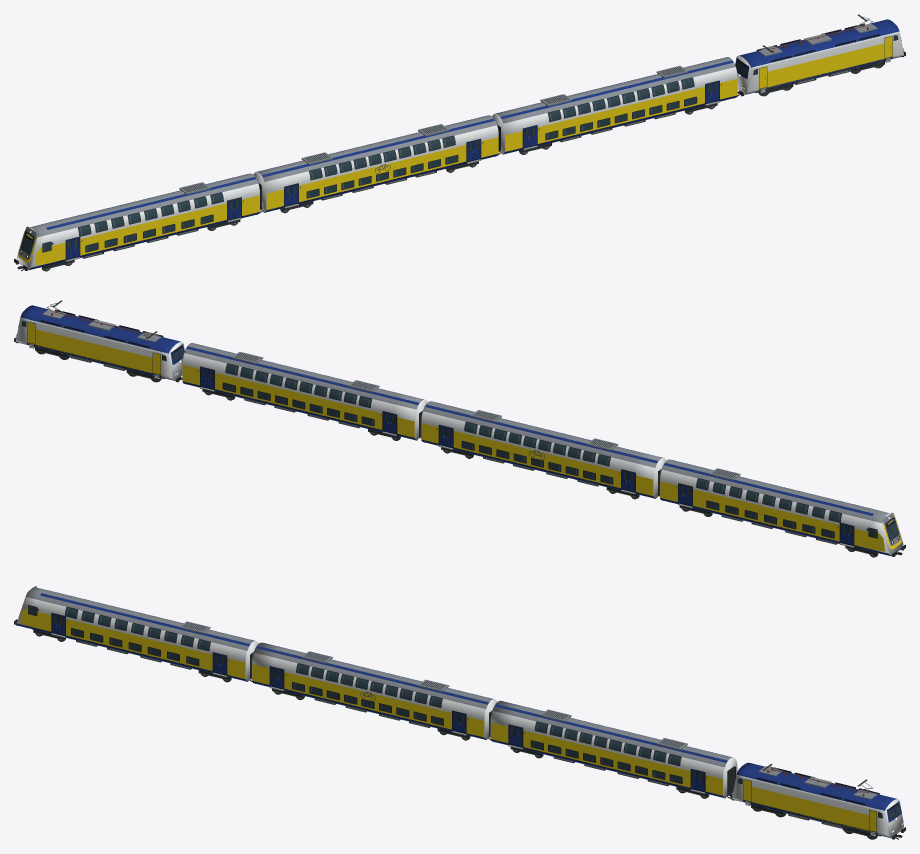
The model's file is metronom-br146-blender.glb.
3 renders of one model, top to bottom at view 1: azimuth 30°, elevation 25°; view 2: azimuth 150°, elevation 25°; view 3: azimuth 330°, elevation 25°, orthographic.
Parts seen in each view (by area): view 1: cab_car_continuous_shell.001, bicycle_continuous_shell.001, second_class_continuous_shell.001, br146_continuous_shell.001, bicycle_yellow_curve_-1.001, second_class_yellow_curve_-1.001, cab_car_yellow_curve_-1.001, br146_yellow_sweep_-1.001, second_class_blue_roof_edge_-1.001, bicycle_blue_roof_edge_-1.001, cab_car_blue_roof_edge_-1.001; view 2: cab_car_continuous_shell.001, second_class_continuous_shell.001, bicycle_continuous_shell.001, br146_continuous_shell.001, second_class_yellow_curve_1.001, bicycle_yellow_curve_1.001, cab_car_yellow_curve_1.001, br146_yellow_sweep_1.001, second_class_blue_roof_edge_1.001, bicycle_blue_roof_edge_1.001, cab_car_blue_roof_edge_1.001; view 3: second_class_continuous_shell.001, cab_car_continuous_shell.001, bicycle_continuous_shell.001, br146_continuous_shell.001, second_class_yellow_curve_-1.001, bicycle_yellow_curve_-1.001, cab_car_yellow_curve_-1.001, br146_yellow_sweep_-1.001, second_class_blue_roof_edge_-1.001, bicycle_blue_roof_edge_-1.001, cab_car_blue_roof_edge_-1.001.
Part boxes in pixels (<box>): cab_car_continuous_shell.001: <box>16,173,259,270</box>; bicycle_continuous_shell.001: <box>253,115,498,212</box>; second_class_continuous_shell.001: <box>492,57,737,154</box>; br146_continuous_shell.001: <box>735,19,903,94</box>; bicycle_yellow_curve_-1.001: <box>266,137,498,209</box>; second_class_yellow_curve_-1.001: <box>505,79,737,151</box>; cab_car_yellow_curve_-1.001: <box>51,195,259,262</box>; br146_yellow_sweep_-1.001: <box>758,41,892,90</box>; second_class_blue_roof_edge_-1.001: <box>501,60,733,118</box>; bicycle_blue_roof_edge_-1.001: <box>262,118,494,177</box>; cab_car_blue_roof_edge_-1.001: <box>46,177,255,229</box>; cab_car_continuous_shell.001: <box>660,459,903,556</box>; second_class_continuous_shell.001: <box>182,343,427,440</box>; bicycle_continuous_shell.001: <box>421,401,666,498</box>; br146_continuous_shell.001: <box>16,305,184,380</box>; second_class_yellow_curve_1.001: <box>182,365,414,437</box>; bicycle_yellow_curve_1.001: <box>421,423,653,495</box>; cab_car_yellow_curve_1.001: <box>660,481,868,548</box>; br146_yellow_sweep_1.001: <box>27,327,161,375</box>; second_class_blue_roof_edge_1.001: <box>186,346,418,404</box>; bicycle_blue_roof_edge_1.001: <box>425,404,657,463</box>; cab_car_blue_roof_edge_1.001: <box>664,463,873,515</box>; second_class_continuous_shell.001: <box>490,700,737,797</box>; cab_car_continuous_shell.001: <box>16,587,258,681</box>; bicycle_continuous_shell.001: <box>252,642,497,739</box>; br146_continuous_shell.001: <box>732,762,903,837</box>; second_class_yellow_curve_-1.001: <box>491,722,722,795</box>; bicycle_yellow_curve_-1.001: <box>252,664,484,737</box>; cab_car_yellow_curve_-1.001: <box>36,612,245,678</box>; br146_yellow_sweep_-1.001: <box>743,785,877,833</box>; second_class_blue_roof_edge_-1.001: <box>494,704,727,762</box>; bicycle_blue_roof_edge_-1.001: <box>256,646,488,704</box>; cab_car_blue_roof_edge_-1.001: <box>40,593,250,646</box>.
Bounding box in the file's own units: 100 × 5.54 × 3.13.
